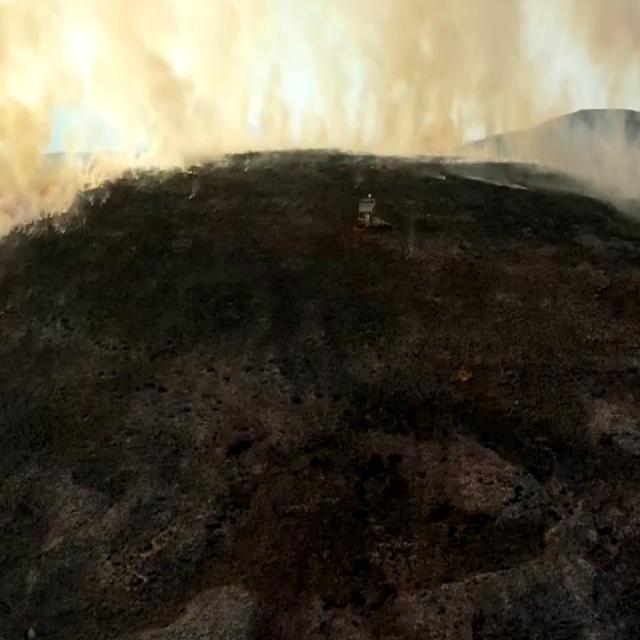smoke: (364, 0, 534, 178), (86, 0, 207, 164), (0, 47, 38, 249)
